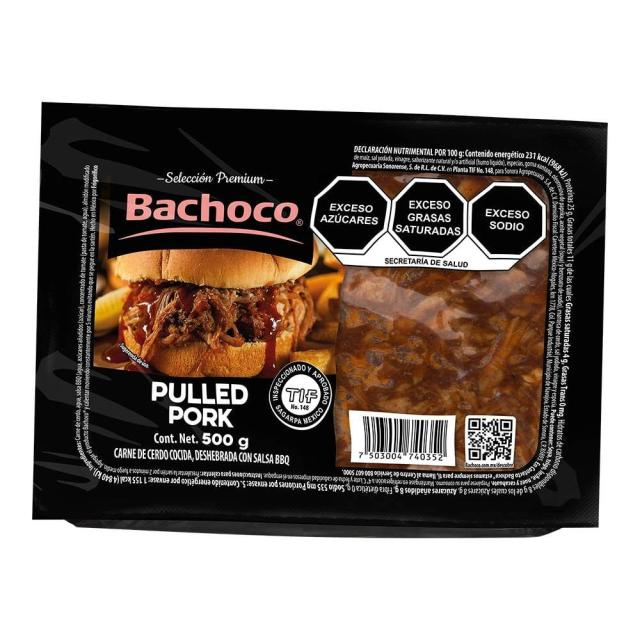carne de cerdo: (138, 279, 292, 345)
